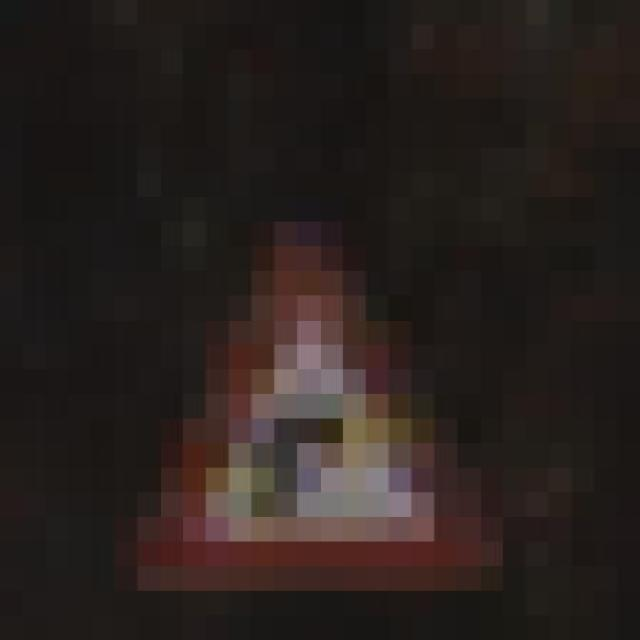Dangerous Rright Curve Ahead: (114, 197, 480, 591)
